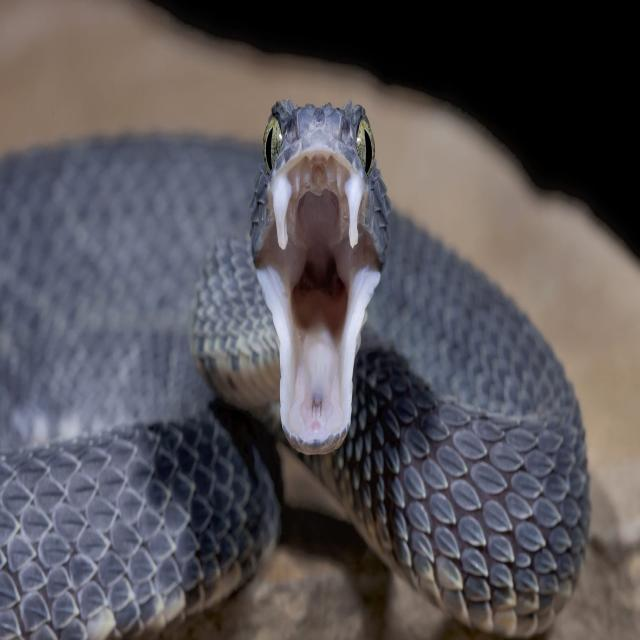Snake: (0, 125, 605, 640)
